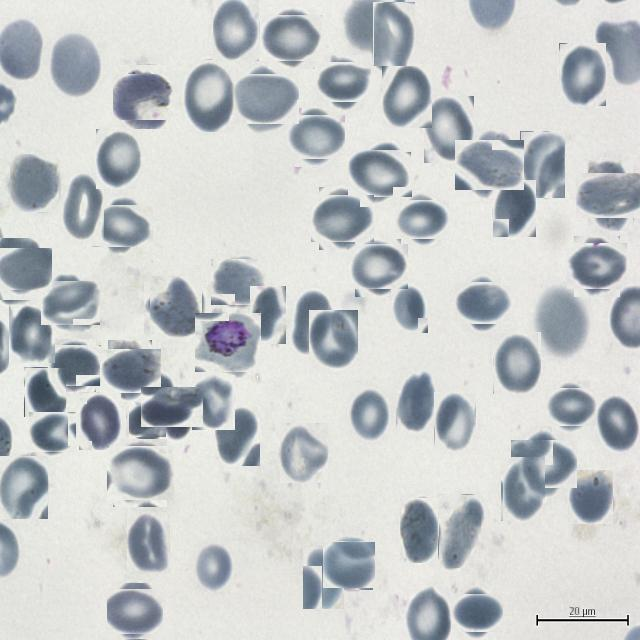red blood cell: (183, 60, 235, 132), (110, 442, 170, 503), (459, 135, 519, 195), (49, 31, 102, 98), (238, 70, 296, 128), (146, 278, 204, 336), (424, 96, 474, 163), (582, 167, 640, 224), (516, 436, 572, 494), (382, 64, 432, 128), (538, 289, 587, 354), (438, 494, 481, 568), (352, 146, 408, 202), (290, 290, 336, 358), (315, 191, 371, 246), (309, 310, 358, 372), (0, 456, 48, 519), (520, 131, 565, 198), (493, 332, 541, 394), (264, 11, 319, 65), (116, 70, 170, 125), (559, 43, 606, 106), (9, 153, 59, 212), (570, 240, 624, 294), (61, 175, 104, 242), (280, 423, 328, 483), (351, 240, 405, 293), (502, 456, 546, 521), (104, 344, 156, 398), (213, 0, 259, 61), (126, 511, 170, 574), (96, 129, 142, 189), (290, 112, 342, 164), (96, 200, 148, 252), (212, 256, 264, 308), (44, 276, 96, 328), (146, 382, 198, 434), (373, 2, 415, 66), (9, 305, 55, 363), (215, 407, 260, 466), (302, 546, 344, 609), (400, 498, 440, 563), (595, 393, 639, 452), (492, 179, 536, 237), (396, 371, 437, 433), (434, 392, 476, 452), (458, 278, 508, 328), (324, 539, 374, 589), (110, 586, 160, 636), (78, 392, 121, 450), (0, 242, 46, 295), (568, 470, 613, 524), (192, 376, 235, 432), (320, 58, 368, 106), (398, 195, 446, 242), (52, 342, 98, 389), (349, 387, 389, 441), (24, 367, 66, 417), (250, 286, 286, 344), (548, 385, 594, 430), (454, 591, 500, 636), (193, 542, 234, 592), (390, 281, 428, 333), (30, 410, 74, 454), (128, 404, 164, 439)
trophozoite: (197, 311, 259, 374)
